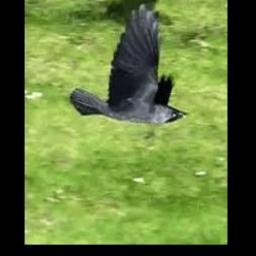Crow: (69, 2, 189, 126)
